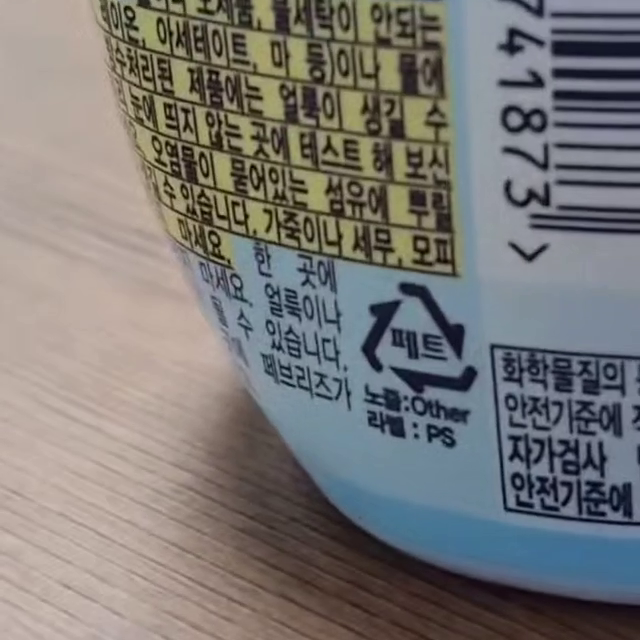Plastic: (362, 281, 479, 394)
